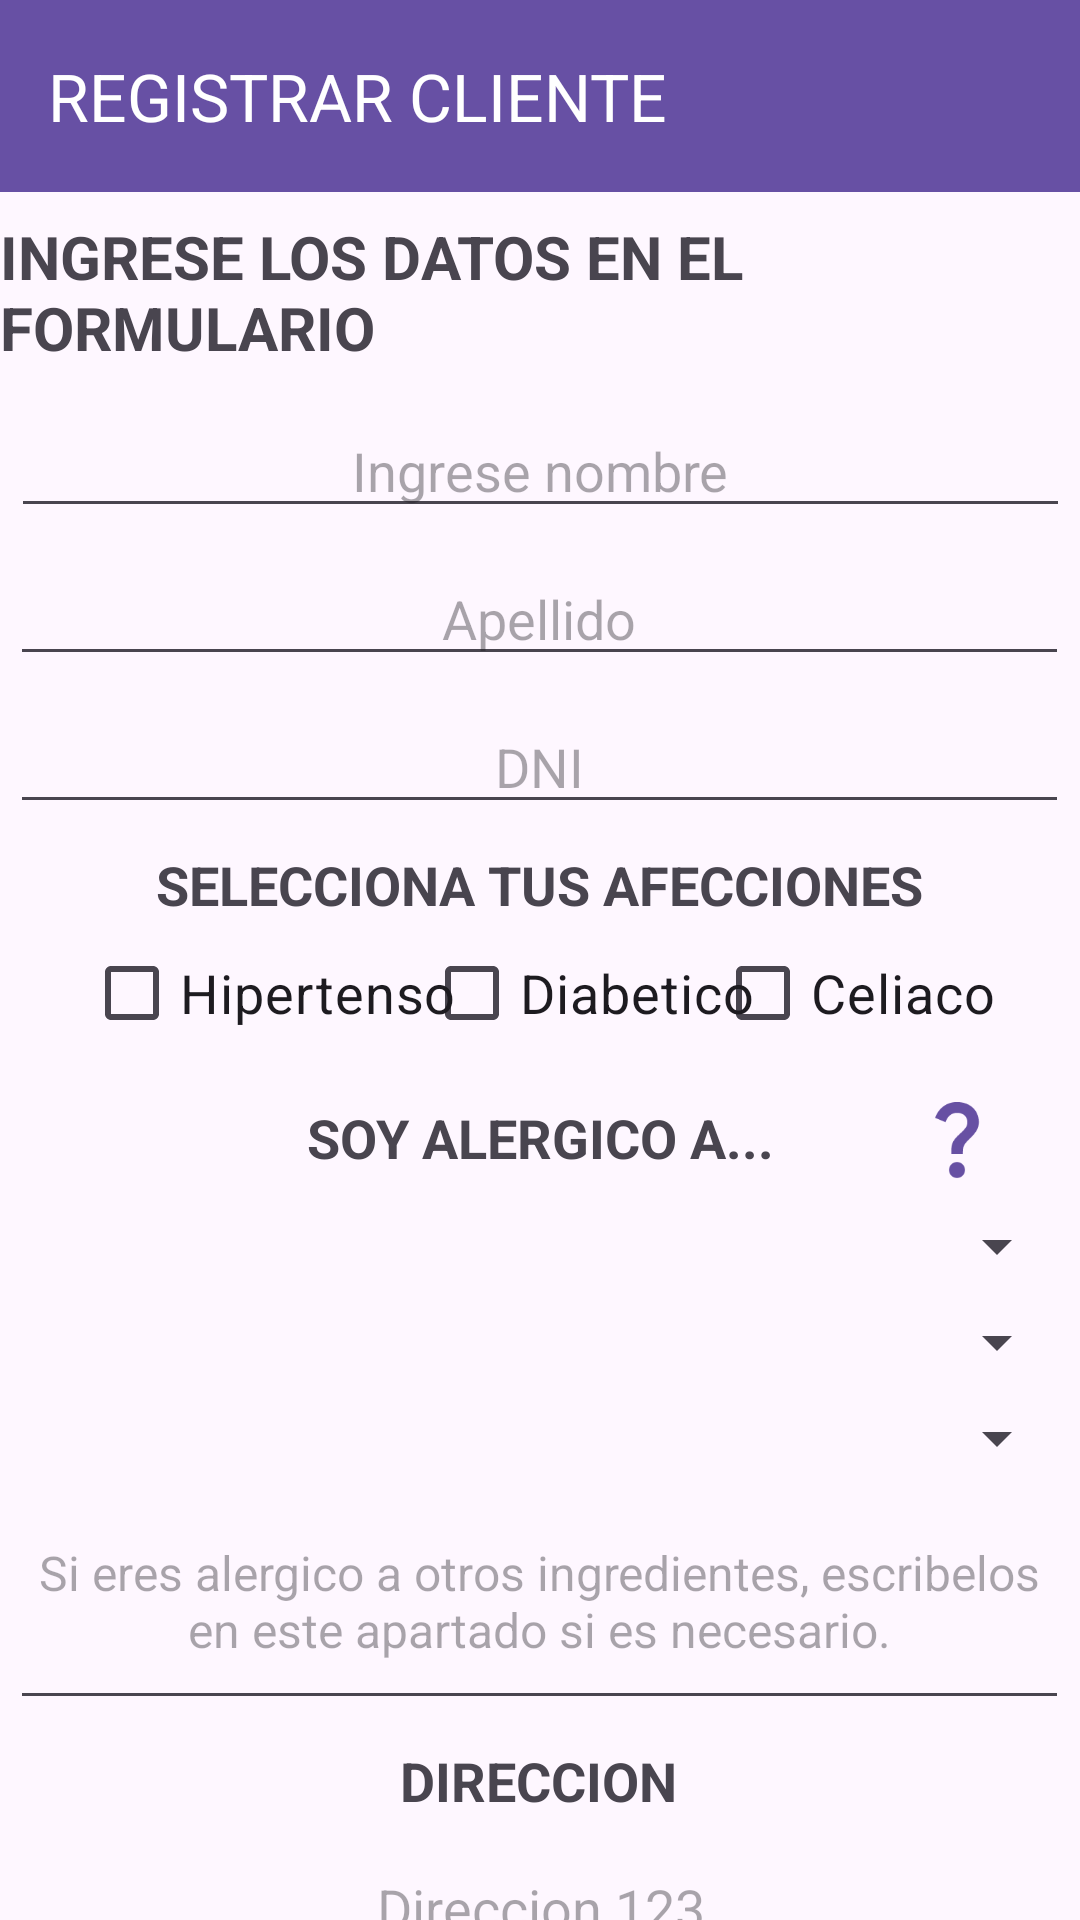

Icons on this 1080×1920 Android screen, each with the point to tap as point (x, y):
question mark: point (957, 1140)
